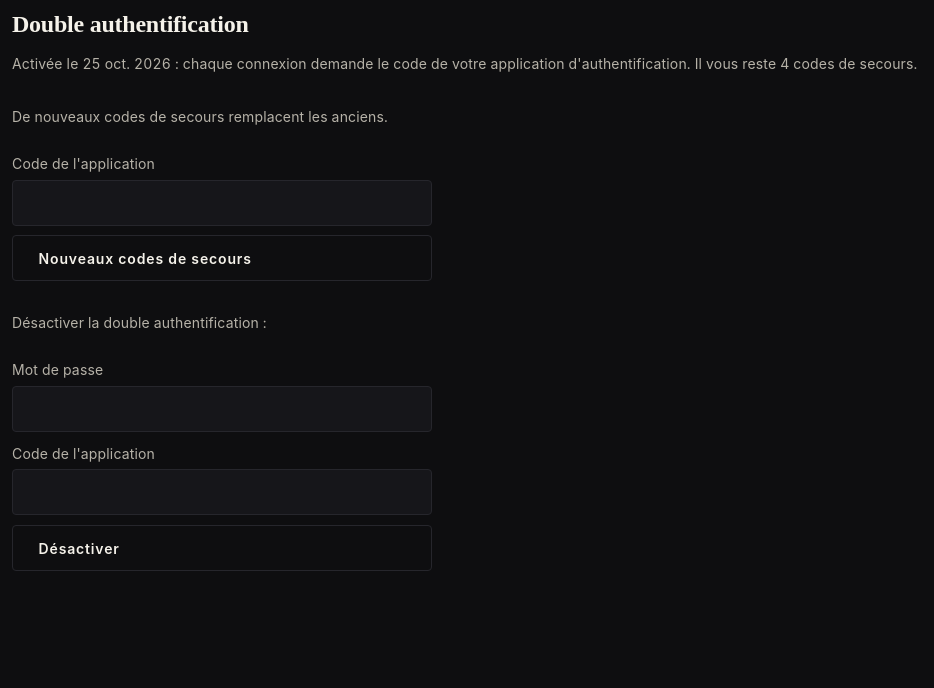
Test: AccountSecurity (story 12.8e) › regenerates the recovery codes against a code
Type "654321" into the field named "regen-code" at (222, 203), box [12, 180, 432, 226]
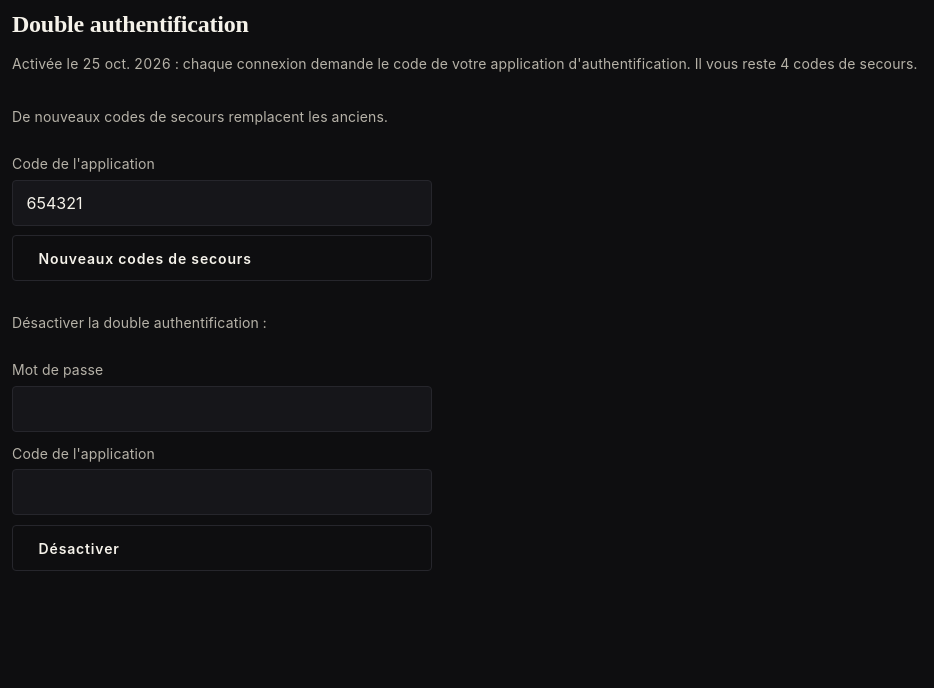
Submit the form with class "regenerate", box [12, 91, 432, 281]
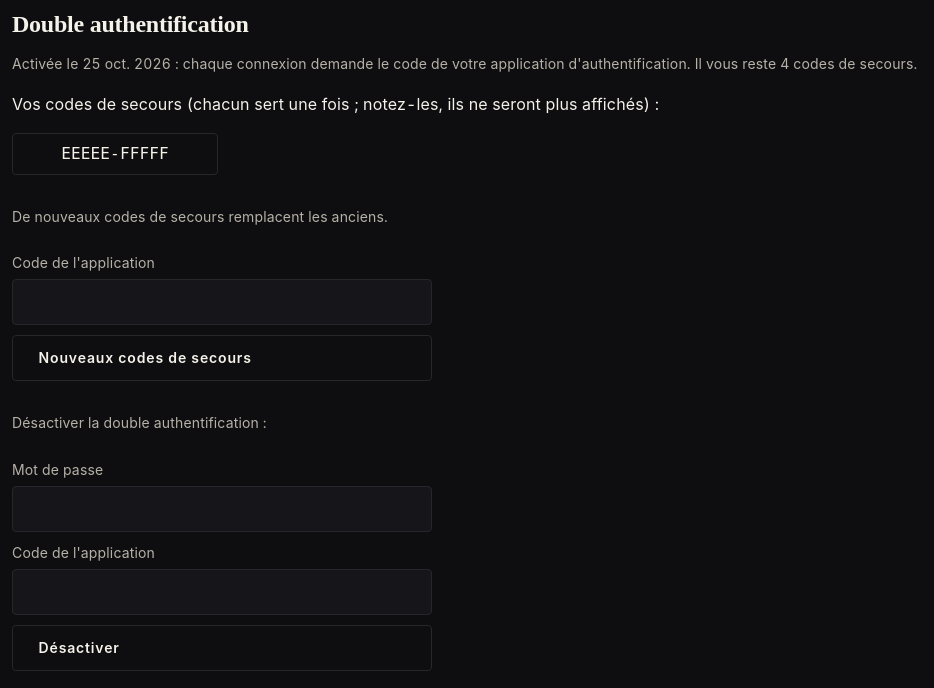
Check: the text "EEEEE-FFFFF" is shown, box [12, 133, 218, 175]
